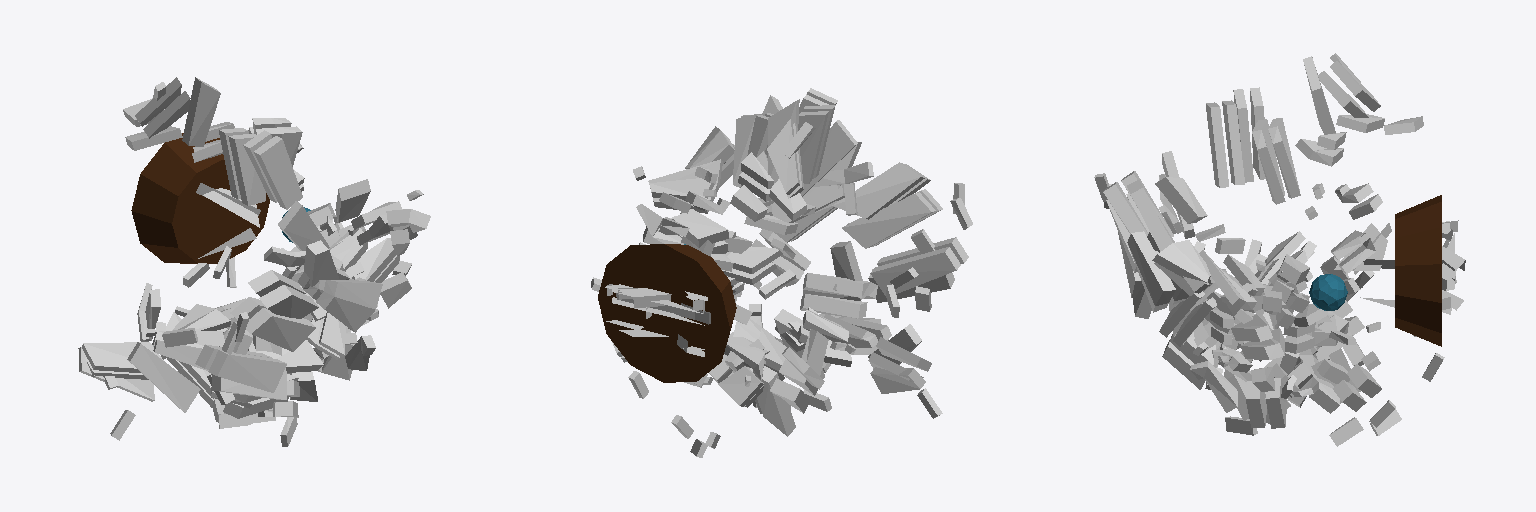
3 renders of one model, left to right at view 1: azimuth 30°, elevation 25°; view 2: azimuth 150°, elevation 25°; view 3: azimuth 270°, elevation 25°, orthographic.
Parts seen in each view (by area): view 1: Cone_Cone_cover, Cone.001_Cone.001_cover, Cylinder_Cylinder_Material.001, Plane_Plane_Material.003; view 2: Cone.001_Cone.001_cover, Cone_Cone_cover, Cylinder_Cylinder_Material.001, Plane_Plane_Material.003; view 3: Cone_Cone_cover, Cone.001_Cone.001_cover, Cylinder_Cylinder_Material.001, Plane_Plane_Material.003, Icosphere_Icosphere_ball.
Part boxes in pixels (bbox=[...]): Cone_Cone_cover: bbox=[162, 179, 430, 446]; Cone.001_Cone.001_cover: bbox=[78, 77, 423, 440]; Cylinder_Cylinder_Material.001: bbox=[131, 133, 269, 263]; Plane_Plane_Material.003: bbox=[196, 183, 260, 258]; Cone.001_Cone.001_cover: bbox=[628, 88, 972, 438]; Cone_Cone_cover: bbox=[591, 95, 968, 457]; Cylinder_Cylinder_Material.001: bbox=[598, 244, 736, 382]; Plane_Plane_Material.003: bbox=[605, 262, 727, 356]; Cone_Cone_cover: bbox=[1103, 171, 1416, 446]; Cone.001_Cone.001_cover: bbox=[1094, 53, 1444, 427]; Cylinder_Cylinder_Material.001: bbox=[1395, 195, 1441, 346]; Plane_Plane_Material.003: bbox=[1334, 220, 1465, 314]; Icosphere_Icosphere_ball: bbox=[1309, 274, 1347, 310].
Bounding box in the file's own units: 2.79 × 2.85 × 2.7.
Materials: 4 (1 with a texture image).